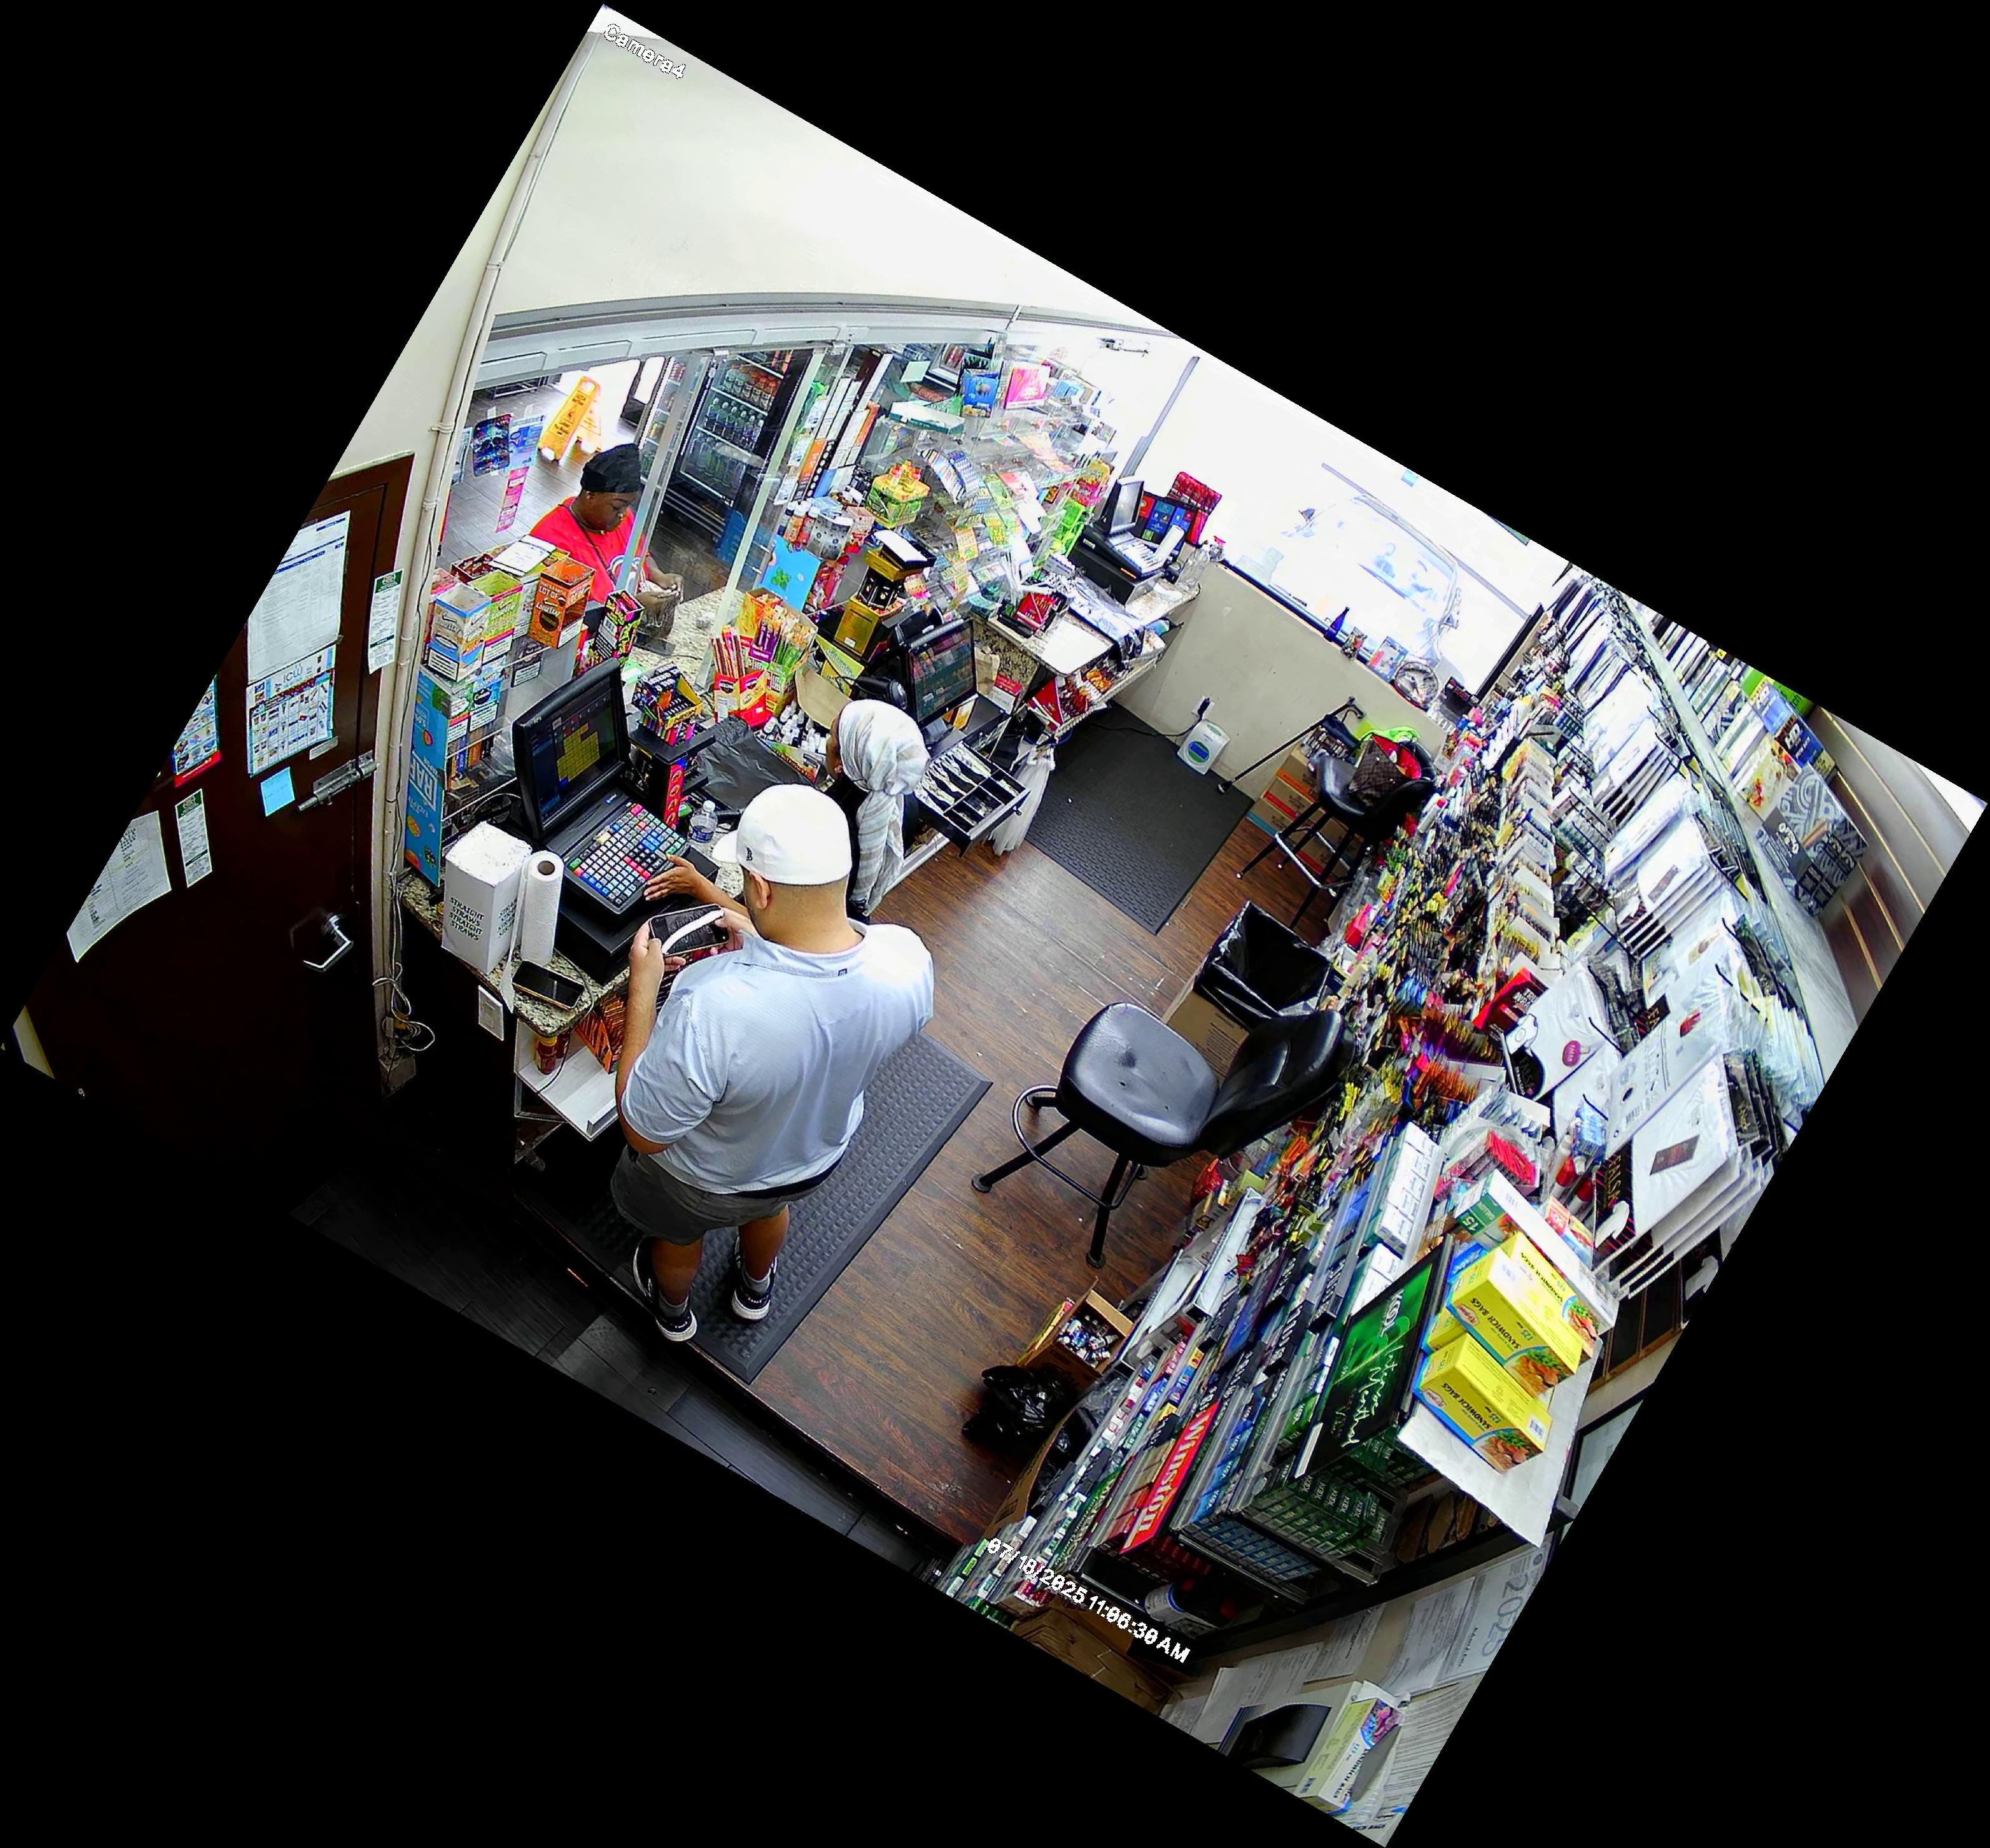phone: (642, 889, 743, 964)
